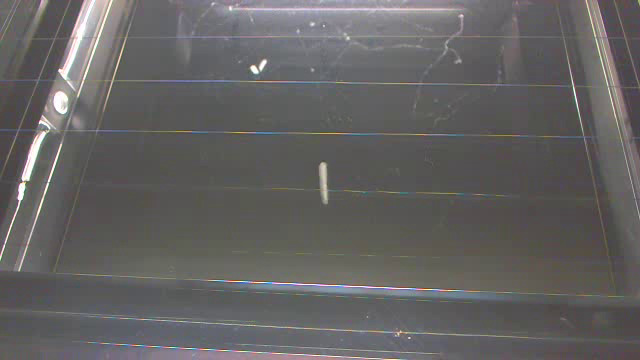alpha: (318, 162, 330, 205), (258, 58, 268, 74), (250, 64, 259, 74)
